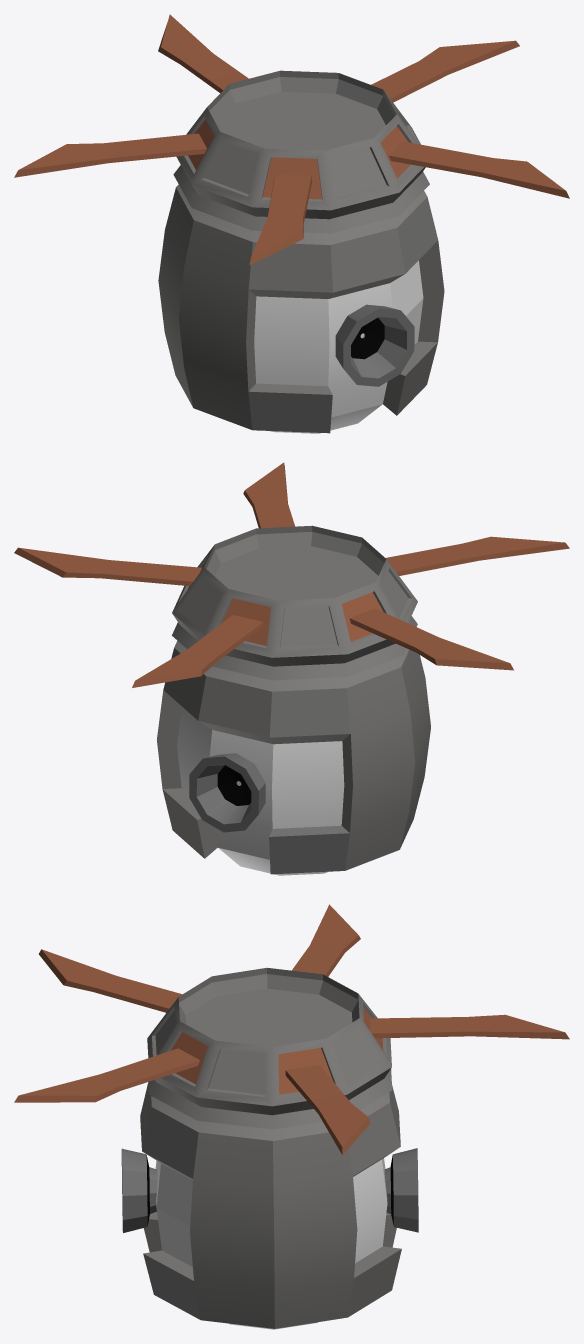
The model's file is FlyingVolcun.fbx.
3 views of the same model, one above another, from view 1: azimuth 30°, elevation 25°; view 2: azimuth 150°, elevation 25°; view 3: azimuth 270°, elevation 25° (orthographic). The views are drawn at different scales.
Visible parts, largest first — view 1: Cylinder; view 2: Cylinder; view 3: Cylinder.
Boxes of the visible parts, left/top/right/bottom form: Cylinder: left=14, top=14, right=569, bottom=433; Cylinder: left=14, top=462, right=569, bottom=875; Cylinder: left=14, top=904, right=569, bottom=1329.
Bounding box in the file's own units: 575 × 328 × 545.
